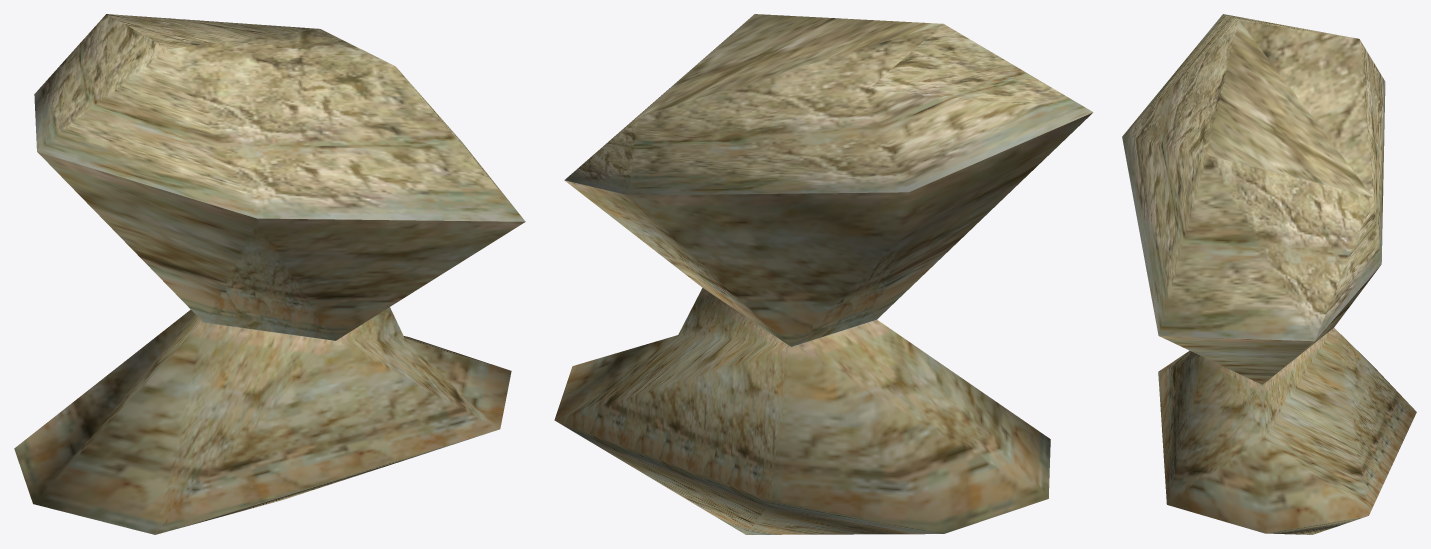
The model's file is dsrt_endr_column_a2_l3.fbx.
3 views of the same model, side by side, from view 1: azimuth 30°, elevation 25°; view 2: azimuth 150°, elevation 25°; view 3: azimuth 270°, elevation 25° (orthographic). The views are drawn at different scales.
Visible parts, largest first — view 1: mesh_node; view 2: mesh_node; view 3: mesh_node.
Boxes of the visible parts, x1,y1,x2,y2 form: mesh_node: (14,14,525,534); mesh_node: (554,14,1093,534); mesh_node: (1122,14,1416,534).
Bounding box in the file's own units: 12.43 × 12.38 × 7.37.
1 material, 1 textured.
